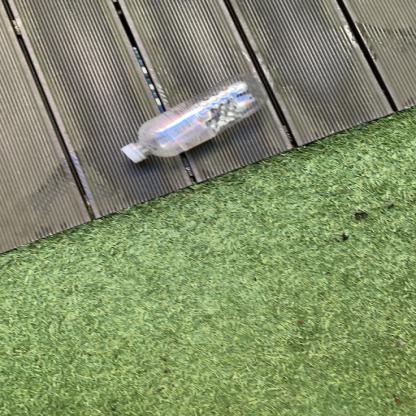plastic-bottles: (120, 78, 268, 165)
